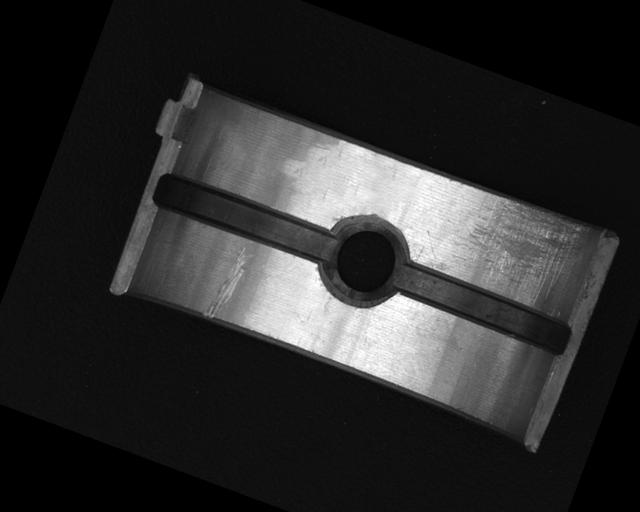gap: (147, 165, 339, 273), (392, 258, 577, 360)
hole: (309, 204, 419, 316)
nick: (201, 240, 255, 325)
scratch: (441, 182, 596, 317)
